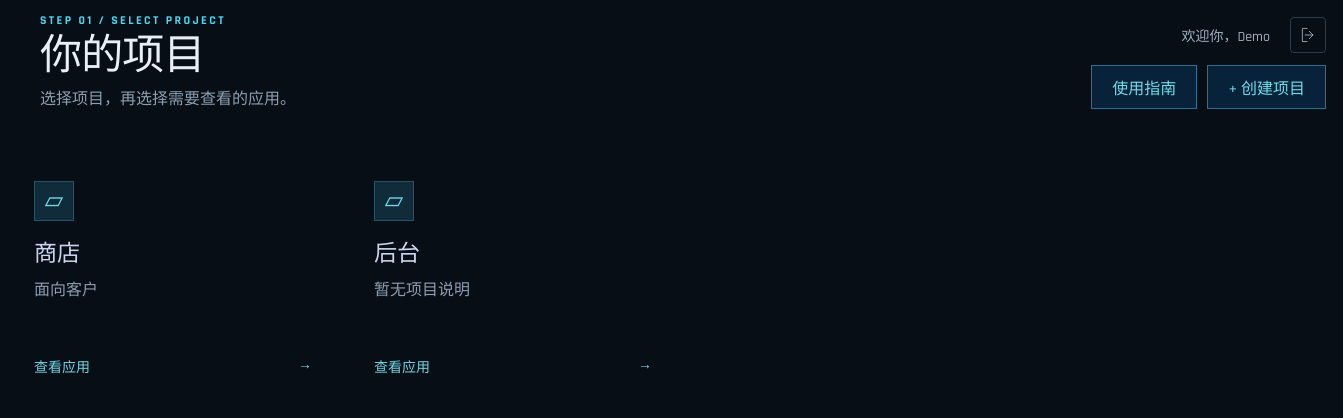
it: does not offer monitoring when an application has never created an App Key
What coordinates should you click on to do the following:
click the button with class "selection-card" showing "▱ 商店 面向客户 查看应用 →"
I would click on:
 (54, 201)
Its box is [10,157,336,401].
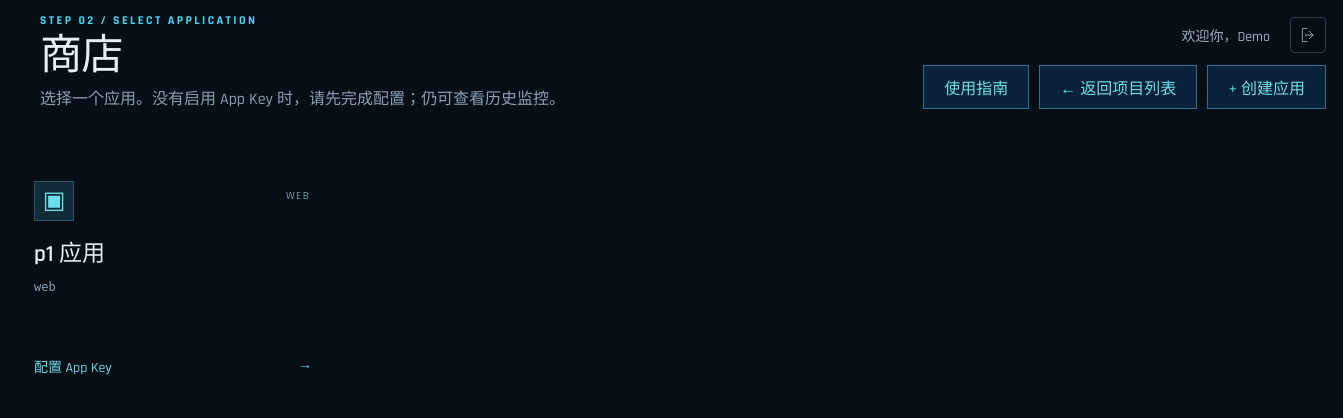
Expected: the button with class "app-card__entry" shows "配置 App Key", [34,181,312,377]
